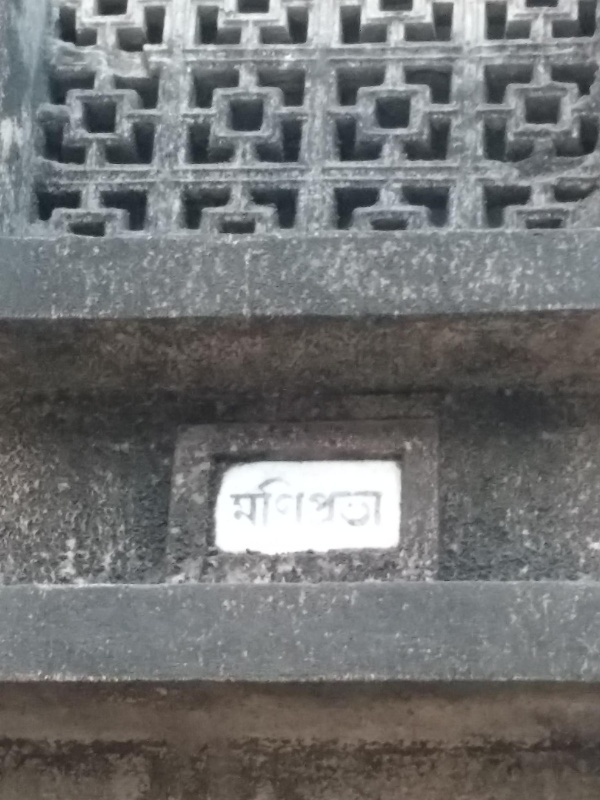text: (241, 476, 256, 527), (257, 476, 272, 527), (273, 476, 288, 527), (289, 476, 304, 527), (305, 476, 320, 527), (321, 476, 336, 527), (337, 476, 352, 527), (353, 476, 368, 527), (369, 476, 384, 527), (228, 476, 240, 527), (385, 476, 389, 527)
